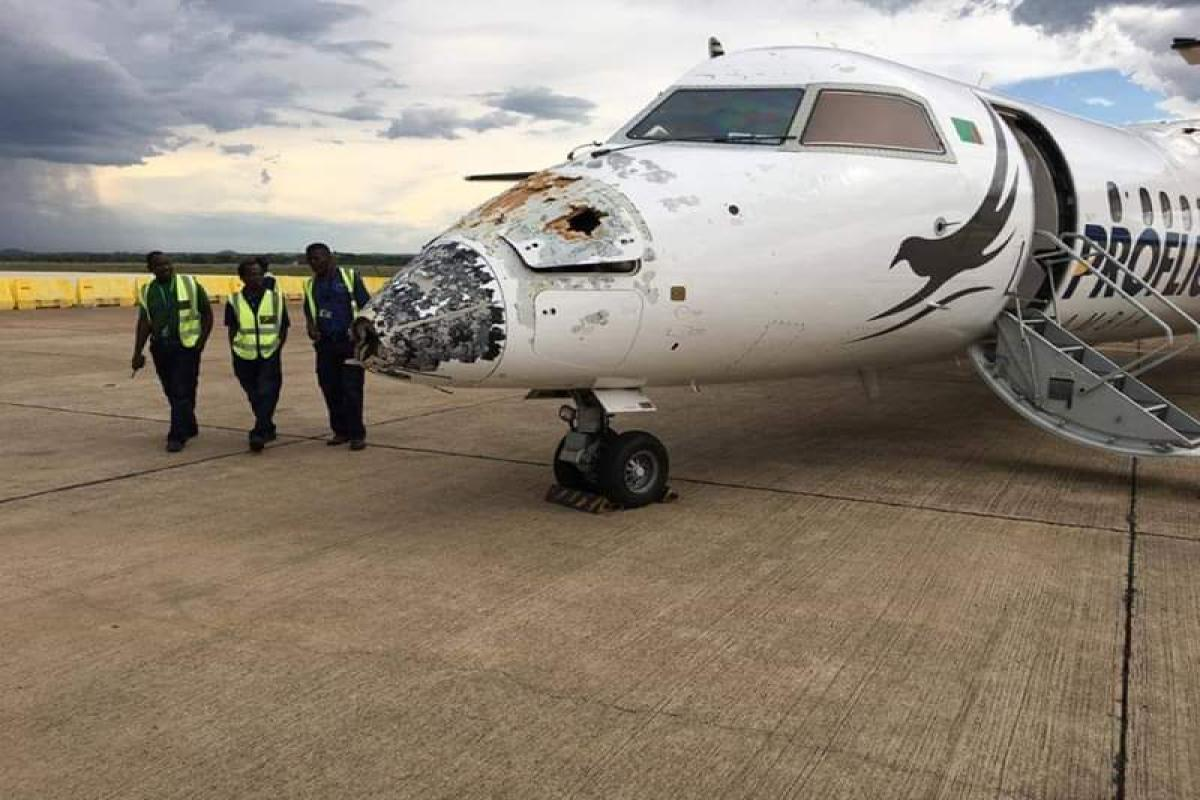Fuselage_damage: (335, 133, 716, 396)
